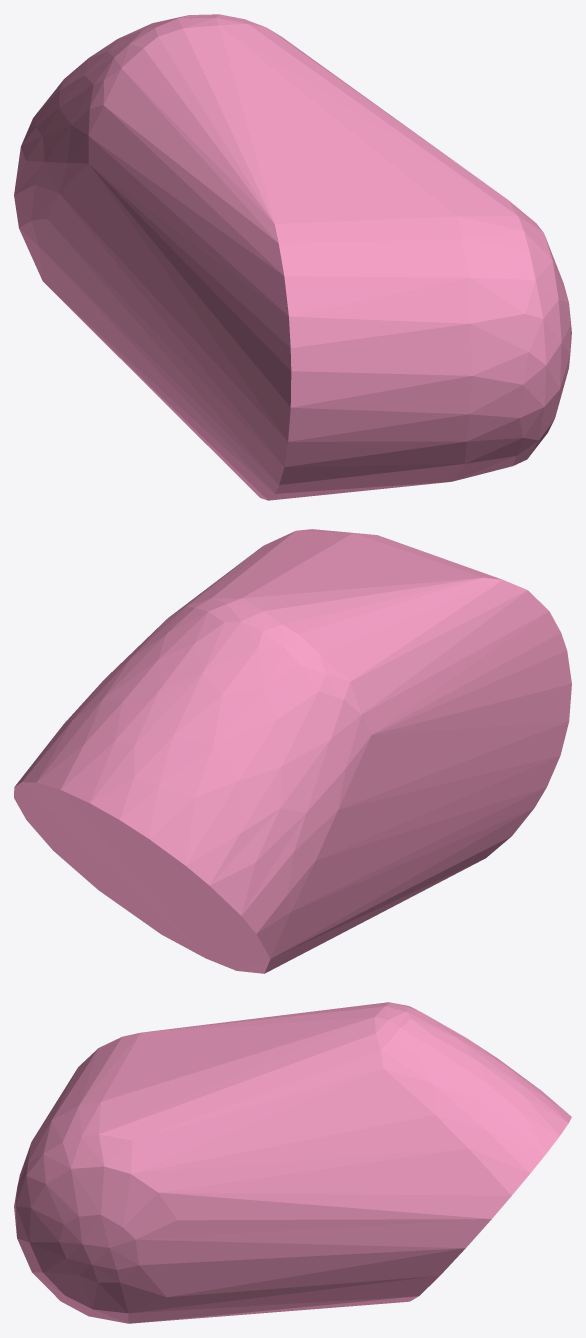
File: Panda_link4_respondable_coll_1.dae
3 renders of one model, top to bottom at view 1: azimuth 30°, elevation 25°; view 2: azimuth 150°, elevation 25°; view 3: azimuth 270°, elevation 25°, orthographic. The views are drawn at different scales.
Visible parts, largest first — view 1: Node_0x7f9e884b4150; view 2: Node_0x7f9e884b4150; view 3: Node_0x7f9e884b4150.
Boxes of the visible parts, x1,y1,x2,y2 form: Node_0x7f9e884b4150: (14, 14, 571, 500); Node_0x7f9e884b4150: (14, 529, 571, 973); Node_0x7f9e884b4150: (14, 1002, 571, 1323).
Size of the model in its own units: 0.1254 by 0.1333 by 0.2502.
